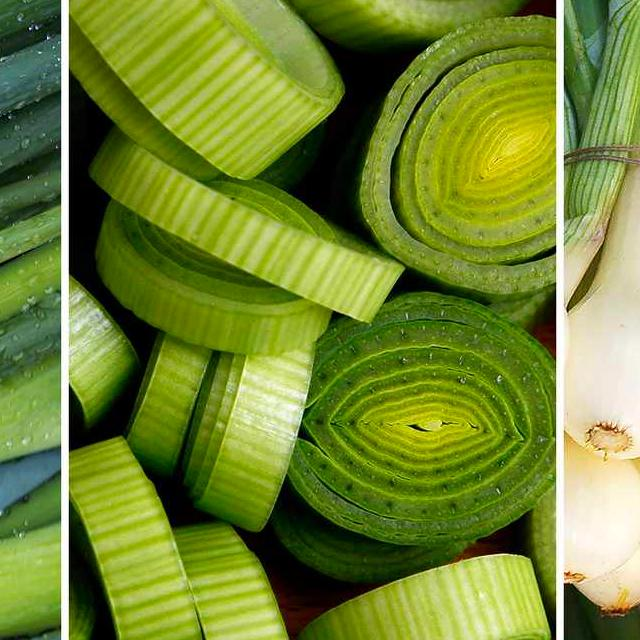green_onion: (65, 0, 555, 640)
